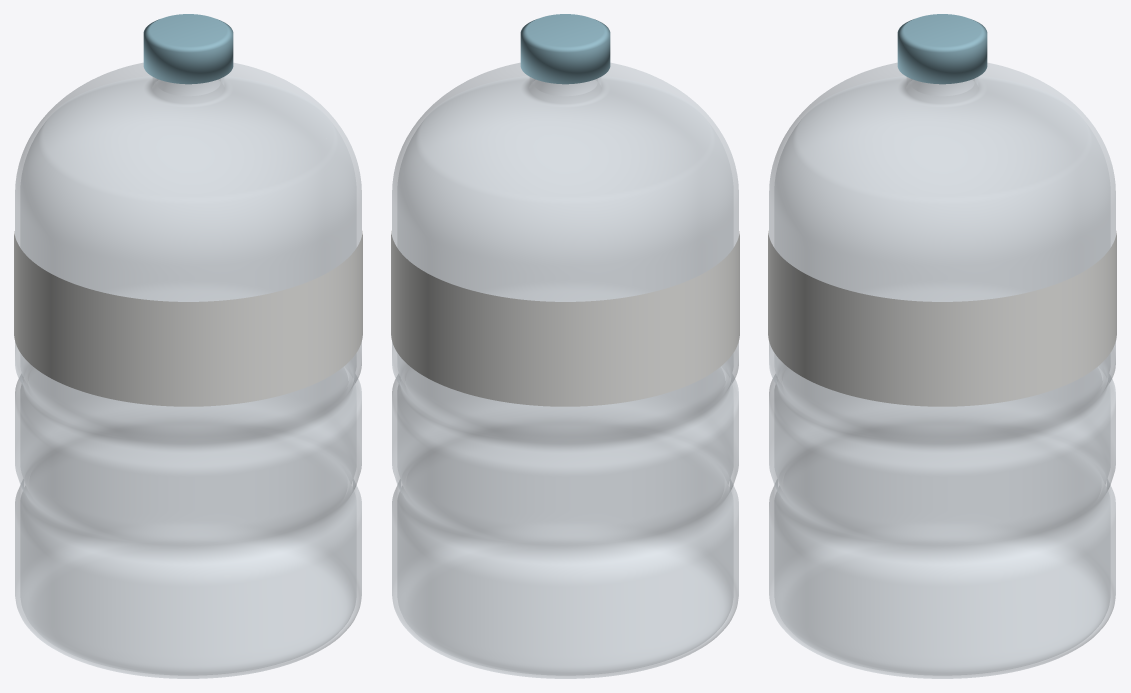
The model's file is nxtsip-jar.glb.
The picture shows the model from 3 angles, left to right: view 1: azimuth 30°, elevation 25°; view 2: azimuth 150°, elevation 25°; view 3: azimuth 270°, elevation 25°; orthographic projection.
Parts seen in each view (by area): view 1: Body, Water, Label, Cap; view 2: Body, Water, Label, Cap; view 3: Body, Water, Label, Cap.
Boxes of the visible parts, x1,y1,x2,y2 form: Body: (15,63,361,678); Water: (20,76,356,675); Label: (14,231,362,406); Cap: (143,14,233,84); Body: (392,63,738,678); Water: (397,76,733,675); Label: (391,231,739,406); Cap: (520,14,610,84); Body: (769,63,1115,678); Water: (774,76,1110,675); Label: (768,231,1116,406); Cap: (897,14,987,84).
Bounding box in the file's own units: 0.2716 × 0.5 × 0.2716.
